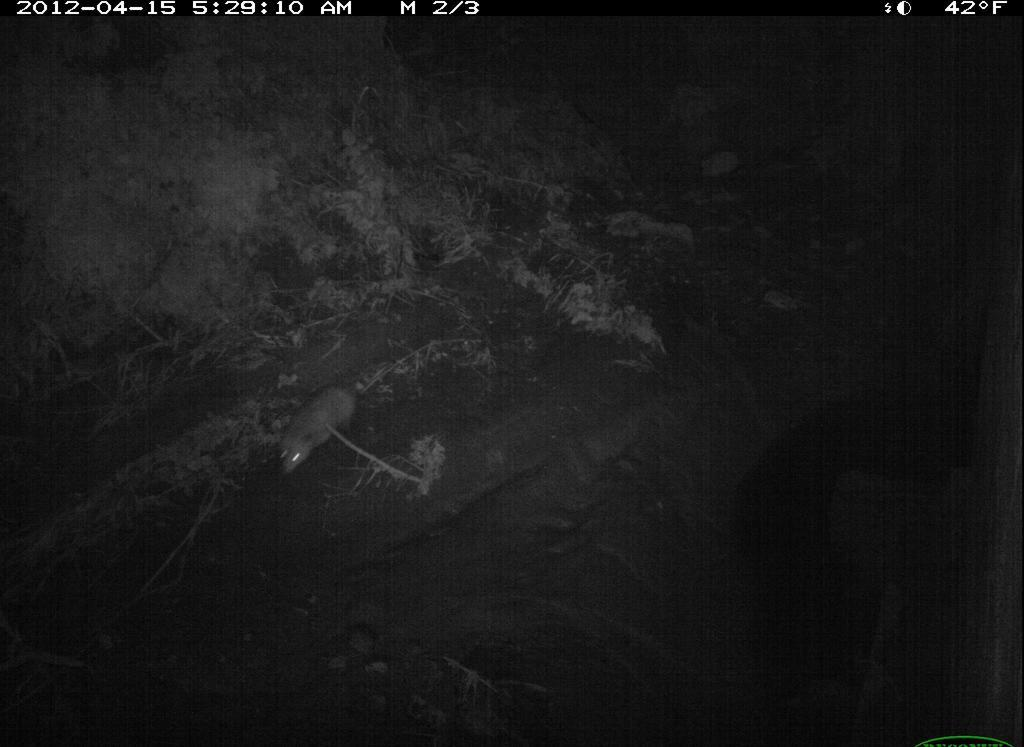opossum: (273, 367, 385, 482)
